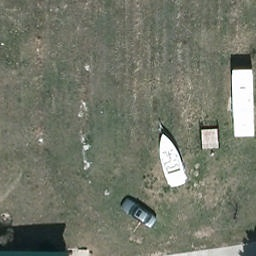boat: (151, 131, 190, 188)
car: (120, 195, 160, 230)
